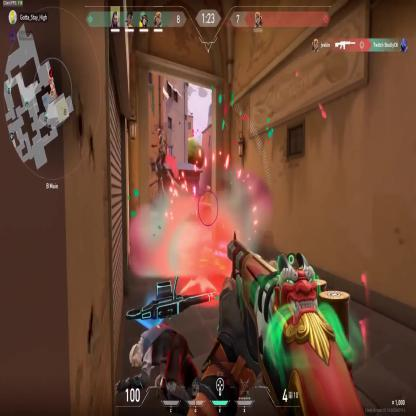enemy: (155, 126, 167, 176)
enemy_head: (157, 128, 162, 136)
